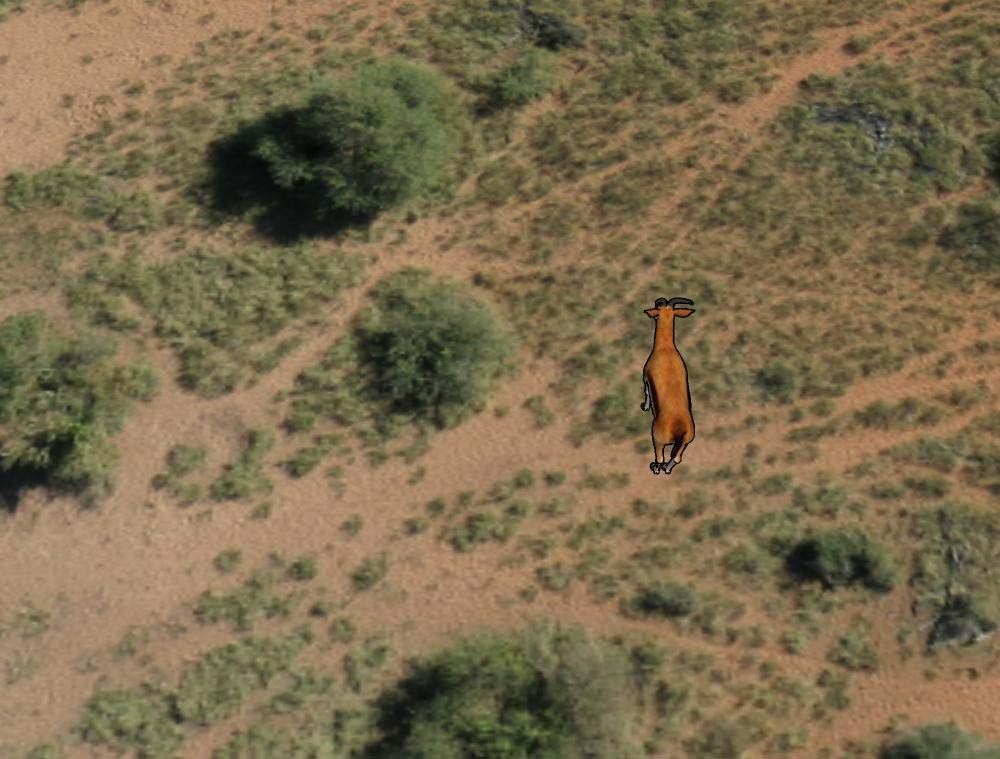springbok: (638, 296, 701, 482)
